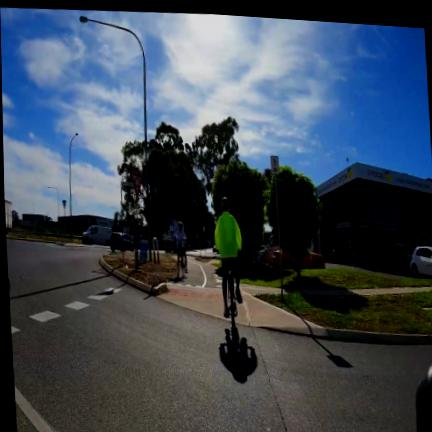Bike_Lane: (173, 254, 220, 288)
